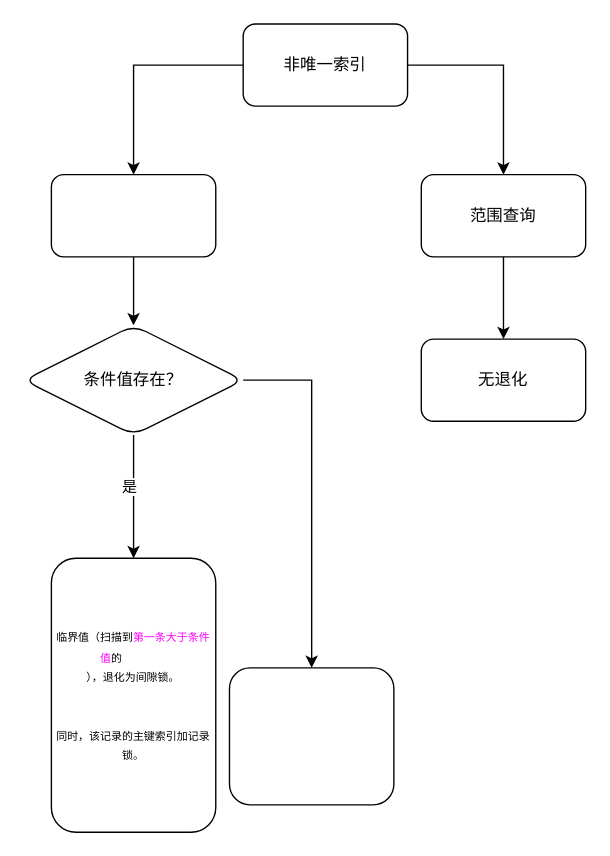
The diagram is 610 pixels wide and 856 high, and some of its shapes have lost their labels. Each missing label, with the centre of its shape:
临界值（扫描到 第一大于条件值 的 二级索引 ），退化为间隙锁。: point (311, 736)
等值查询: point (133, 215)
